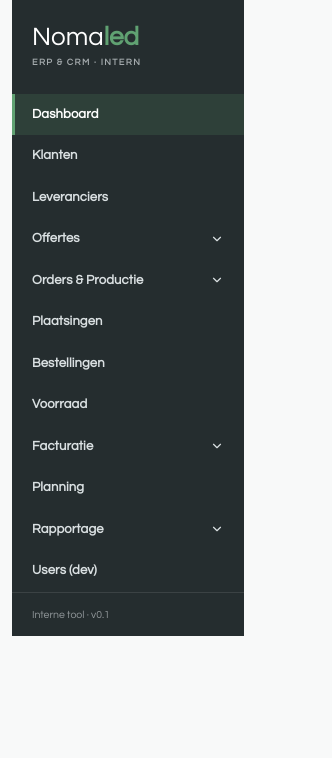
Sidebar › expands the 'Orders & Productie' submenu on click, revealing 'Alle orders' and 'Lakproduktie'
Click the button "Orders & Productie" at x=128, y=280, box [12, 260, 244, 301]
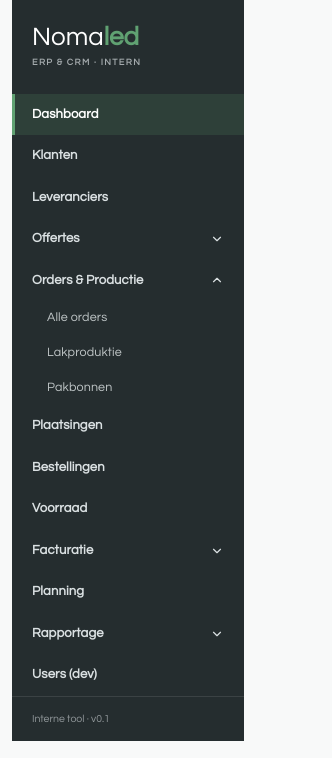
Check: the button "Orders & Productie" is expanded, box [12, 260, 244, 301]
